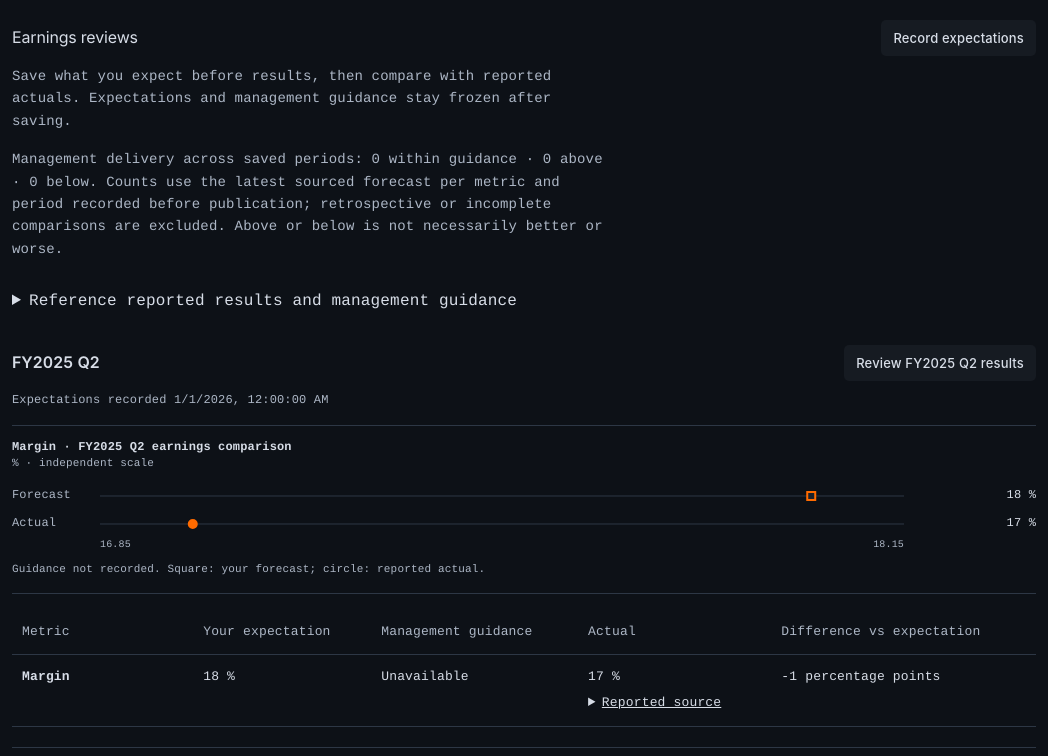
Test: shows unavailable values and retrospective forecasts without invented consensus
The image size is (1048, 756).
Check: the text "Unavailable" is shown, box [371,655,578,726]
Check: the text "-1 percentage points" is shown, box [771,655,1036,726]
Click the heading "Reported source" at (662, 703), box [602,695,721,710]
(page scrolled)
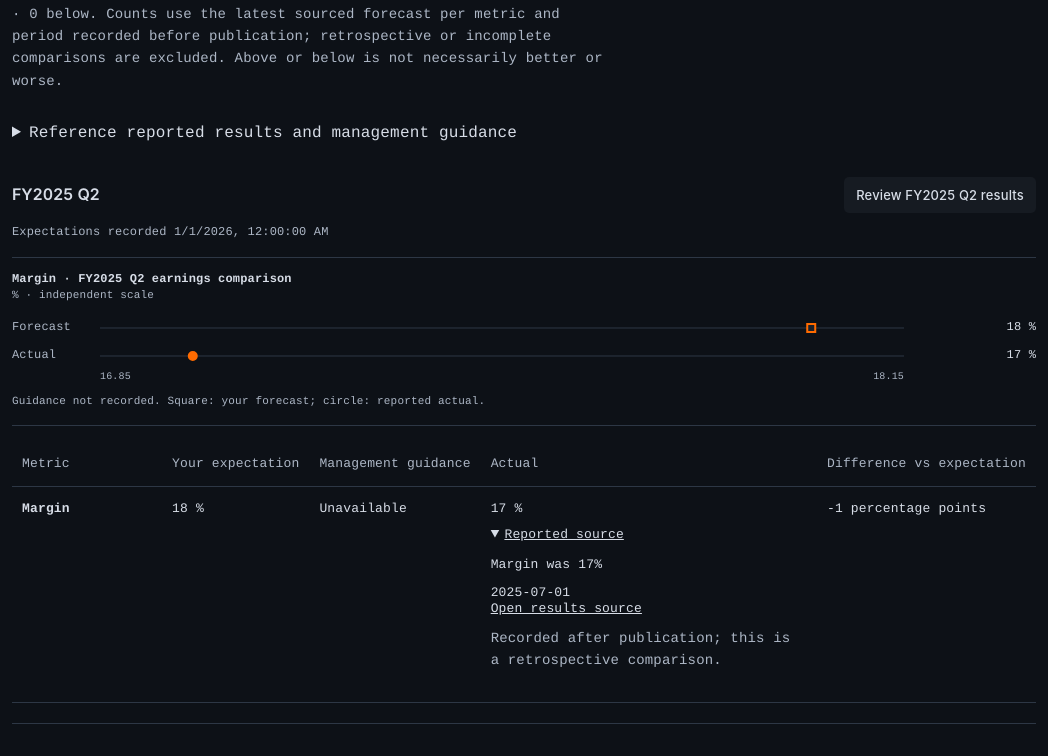
Check: the text "retrospective comparison" is shown, box [491,631,790,669]
